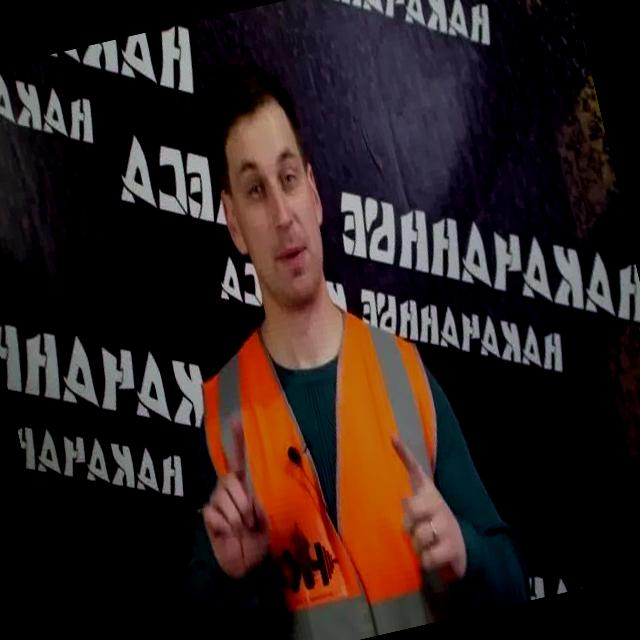vest: (180, 278, 483, 640)
